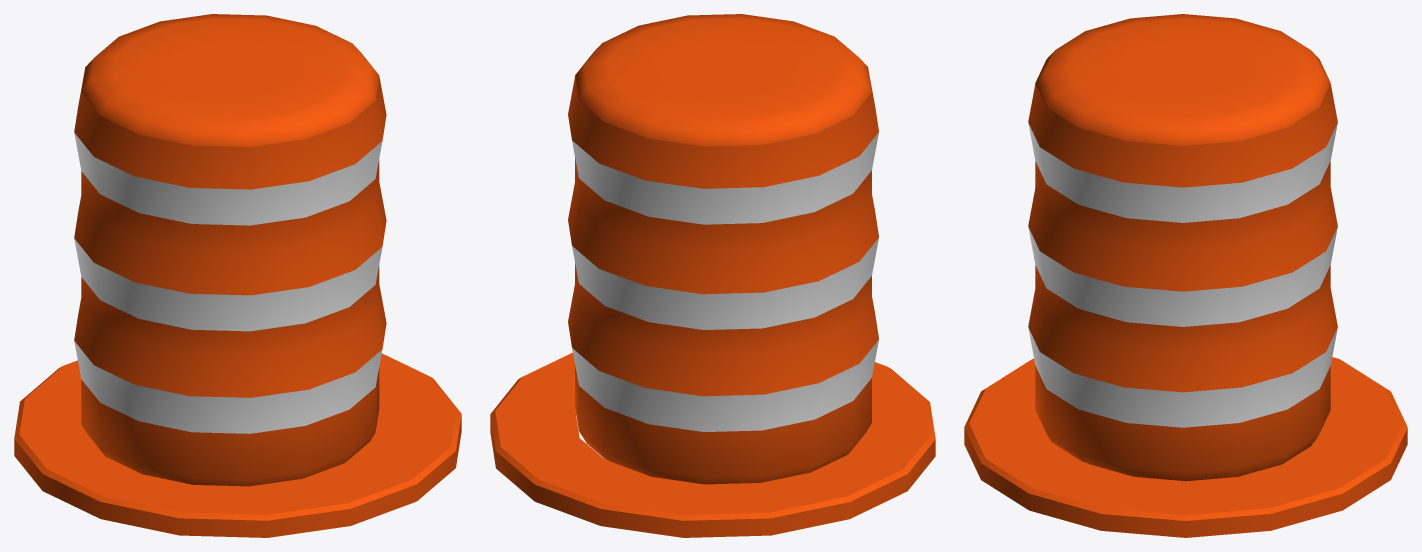
Rendered from road_signalizer_cylinder.fbx.
The picture shows the model from 3 angles, left to right: view 1: azimuth 30°, elevation 25°; view 2: azimuth 150°, elevation 25°; view 3: azimuth 270°, elevation 25°; orthographic projection.
Parts seen in each view (by area): view 1: road_signalizer_cylinder; view 2: road_signalizer_cylinder; view 3: road_signalizer_cylinder.
Part boxes in pixels (x1,y1,x2,y2): road_signalizer_cylinder: (14, 14, 461, 537); road_signalizer_cylinder: (490, 14, 935, 537); road_signalizer_cylinder: (964, 14, 1407, 537).
Bounding box in the file's own units: 84.75 × 78.38 × 84.75.
